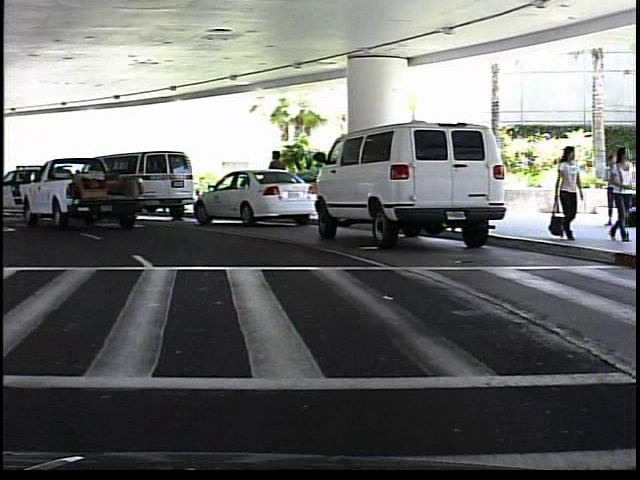person: (549, 143, 582, 242), (606, 145, 632, 244), (602, 155, 625, 231), (267, 148, 293, 213)
